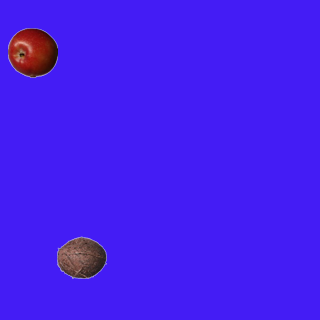Apple Braeburn: (7, 27, 57, 77)
Cocos: (56, 232, 106, 282)
